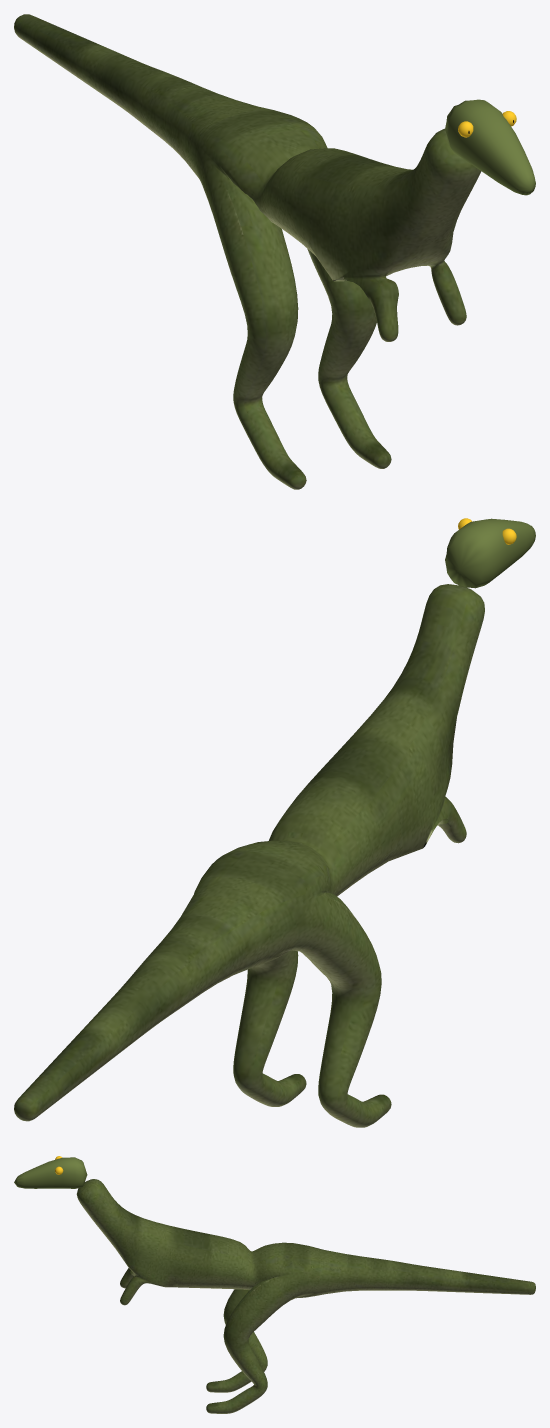
Rendered from compsognathus.glb.
3 views of the same model, one above another, from view 1: azimuth 30°, elevation 25°; view 2: azimuth 150°, elevation 25°; view 3: azimuth 270°, elevation 25° (orthographic). The views are drawn at different scales.
Parts seen in each view (by area): view 1: compsognathus; view 2: compsognathus; view 3: compsognathus.
Part boxes in pixels (x1=…): compsognathus: x1=14, y1=14, x2=535, y2=489; compsognathus: x1=14, y1=518, x2=535, y2=1127; compsognathus: x1=14, y1=1156, x2=535, y2=1413.
Bounding box in the file's own units: 0.1874 × 0.6425 × 1.25.
Materials: 4 (1 with a texture image).
